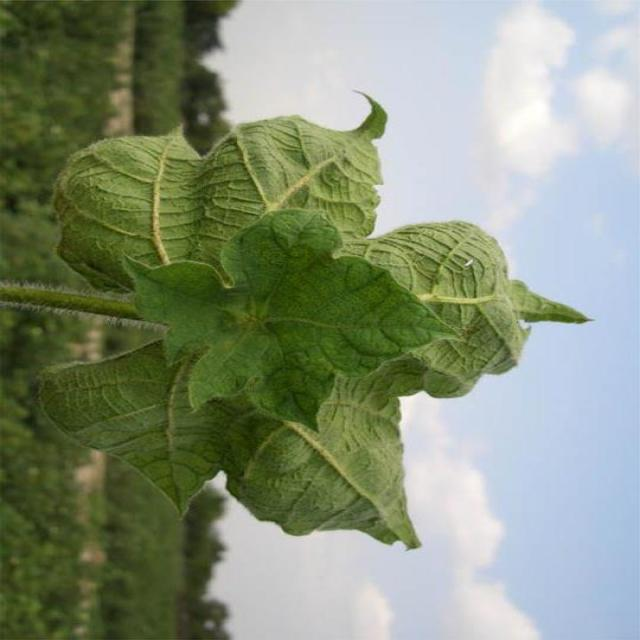Leaf Curl Virus: (94, 141, 463, 461)
